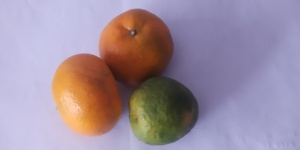BAD: (100, 7, 174, 87), (51, 52, 118, 138), (127, 78, 200, 150)
